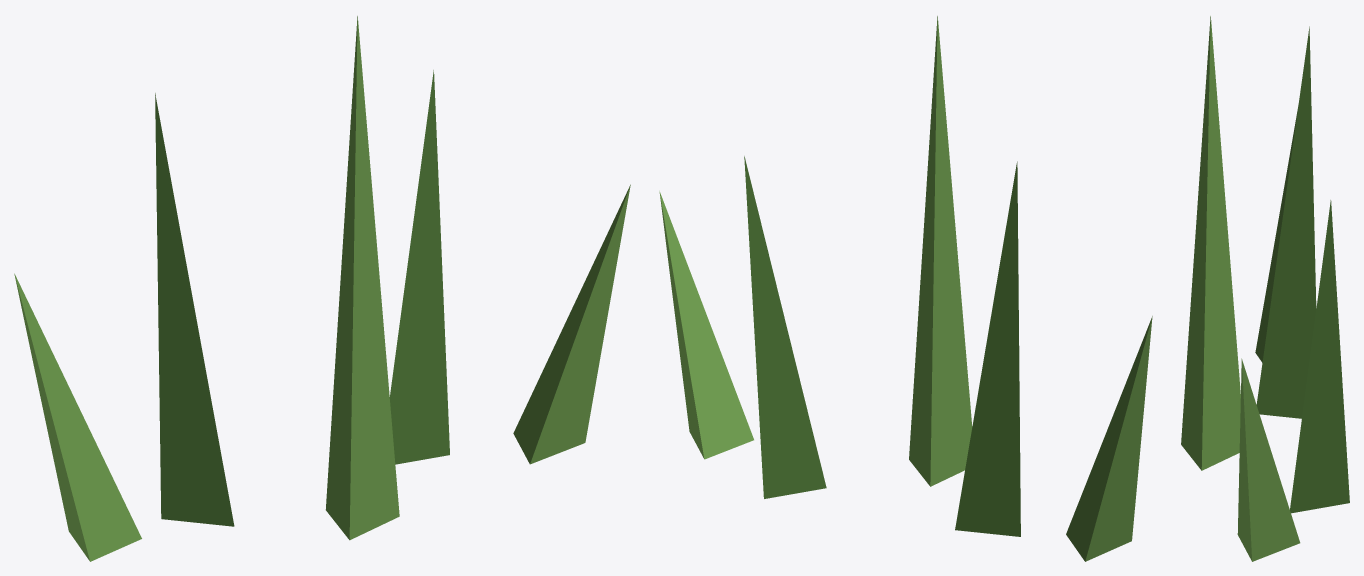
Rendered from deco_grass.glb.
3 views of the same model, side by side, from view 1: azimuth 30°, elevation 25°; view 2: azimuth 150°, elevation 25°; view 3: azimuth 270°, elevation 25° (orthographic). The views are drawn at different scales.
Parts seen in each view (by area): view 1: deco_grass_mesh; view 2: deco_grass_mesh; view 3: deco_grass_mesh.
Part boxes in pixels (x1=…): deco_grass_mesh: x1=14, y1=16, x2=630, y2=561; deco_grass_mesh: x1=659, y1=16, x2=1152, y2=561; deco_grass_mesh: x1=1181, y1=16, x2=1349, y2=561.
Size of the model in its own units: 0.108 by 0.09 by 0.0312.
